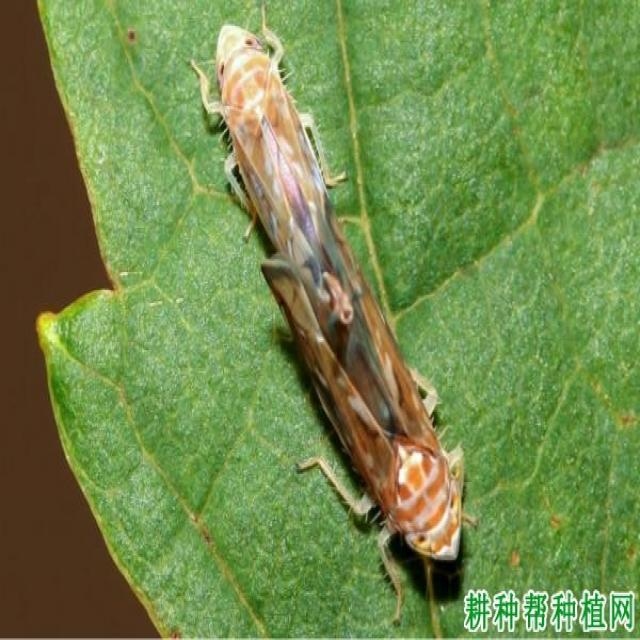Yechan: (261, 221, 479, 582), (211, 18, 358, 334)
